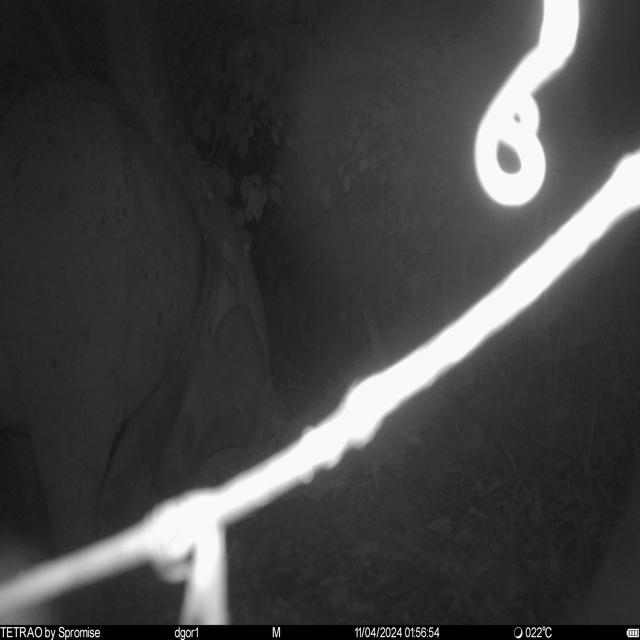ear: (193, 304, 270, 470)
elephant: (1, 2, 272, 626)
